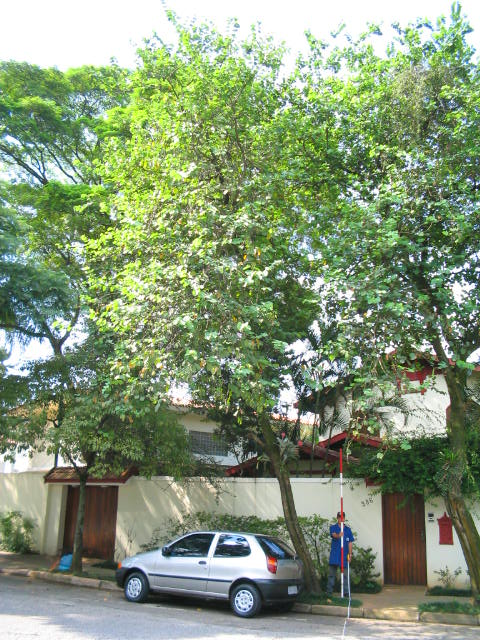crown: (72, 5, 408, 434), (330, 5, 478, 390)
stem: (428, 389, 480, 595), (260, 450, 329, 594)
stick: (331, 447, 347, 598)
tree: (71, 2, 410, 595), (329, 3, 480, 599)
